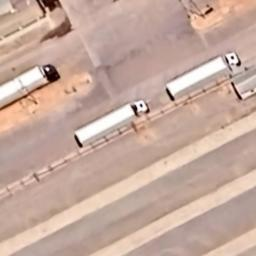truck: (70, 97, 152, 151), (162, 51, 244, 102), (0, 62, 63, 112)
